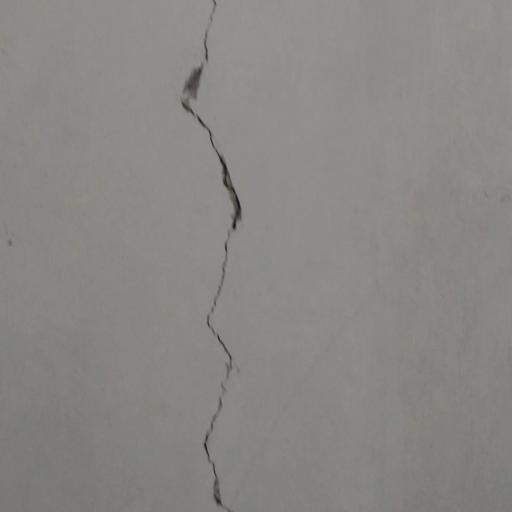minor_crack: (176, 6, 262, 512)
